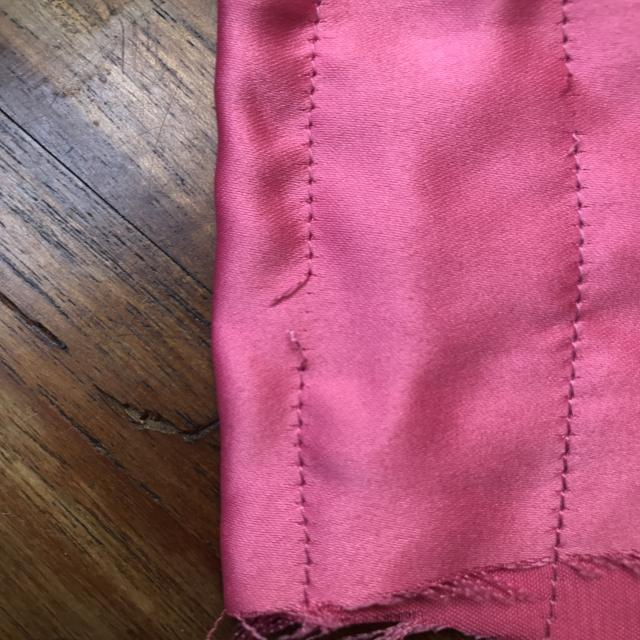broken: (261, 252, 334, 386)
